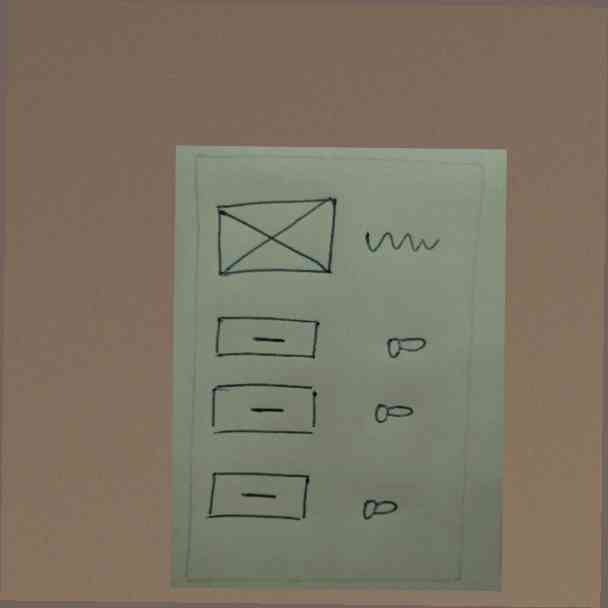button: (205, 376, 321, 443), (203, 464, 313, 528), (207, 310, 323, 369)
image: (211, 194, 340, 284)
switch: (379, 325, 432, 370), (358, 489, 405, 531), (371, 393, 416, 434)
text: (359, 221, 442, 265)
